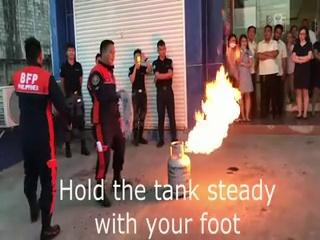Fire: (182, 55, 242, 158)
